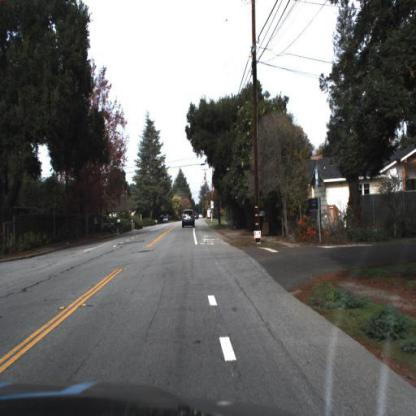car: (181, 207, 198, 231)
